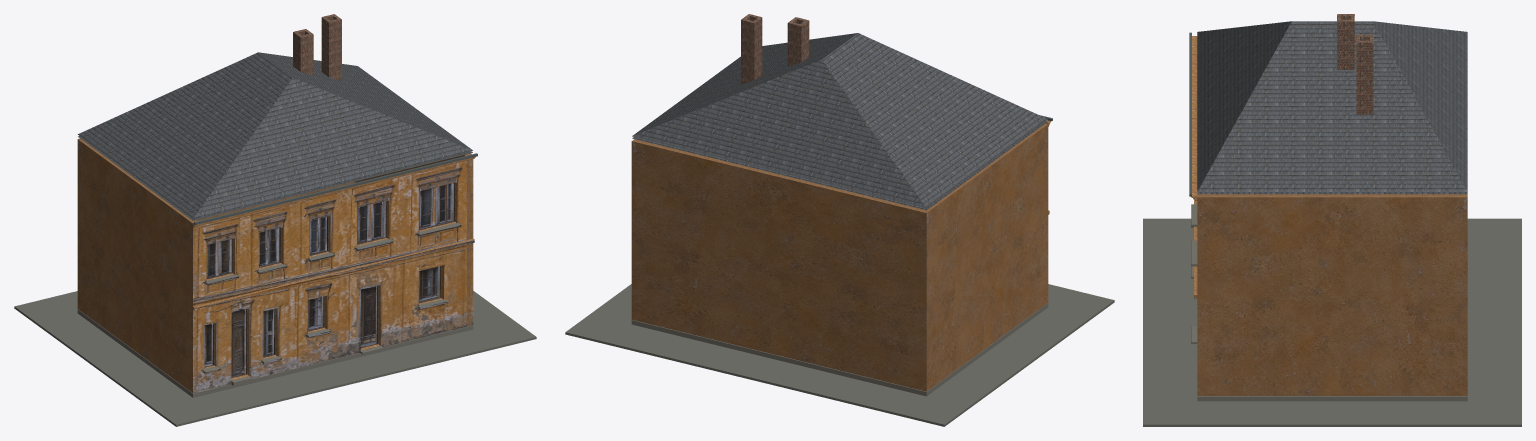
The model's file is cp259_SOL61_HD_v2.glb.
3 views of the same model, side by side, from view 1: azimuth 30°, elevation 25°; view 2: azimuth 150°, elevation 25°; view 3: azimuth 270°, elevation 25° (orthographic). The views are drawn at different scales.
Visible parts, largest first — view 1: Closed_Hipped_Roof_Provisional, Front_Registered_G_Openings, Plan_Informed_Unobserved_Shell, Neutral_Context_Base, Photographic_Recessed_Inserts, Two_Observed_Chimneys, Source_Intermediate_Cornice, Mineral_Sills_C, Timber_Outer_Frames_G, Eave_Gutter_3D_Provisional, Eave_Cornice_Own_Material; view 2: Plan_Informed_Unobserved_Shell, Closed_Hipped_Roof_Provisional, Neutral_Context_Base, Two_Observed_Chimneys; view 3: Plan_Informed_Unobserved_Shell, Closed_Hipped_Roof_Provisional, Neutral_Context_Base, Two_Observed_Chimneys, Eave_Cornice_Own_Material, Mineral_Sills_C, Eave_Gutter_3D_Provisional.
Boxes of the visible parts, left/top/right/bottom form: Closed_Hipped_Roof_Provisional: left=78, top=52, right=472, bottom=220; Front_Registered_G_Openings: left=193, top=159, right=473, bottom=393; Plan_Informed_Unobserved_Shell: left=77, top=138, right=473, bottom=397; Neutral_Context_Base: left=14, top=291, right=536, bottom=426; Photographic_Recessed_Inserts: left=204, top=183, right=453, bottom=376; Two_Observed_Chimneys: left=293, top=14, right=341, bottom=80; Source_Intermediate_Cornice: left=193, top=238, right=474, bottom=310; Mineral_Sills_C: left=203, top=223, right=461, bottom=373; Timber_Outer_Frames_G: left=204, top=183, right=454, bottom=377; Eave_Gutter_3D_Provisional: left=194, top=153, right=477, bottom=224; Eave_Cornice_Own_Material: left=193, top=156, right=475, bottom=227; Plan_Informed_Unobserved_Shell: left=631, top=123, right=1048, bottom=396; Closed_Hipped_Roof_Provisional: left=632, top=33, right=1047, bottom=210; Neutral_Context_Base: left=565, top=284, right=1114, bottom=426; Two_Observed_Chimneys: left=741, top=14, right=809, bottom=84; Plan_Informed_Unobserved_Shell: left=1197, top=194, right=1467, bottom=401; Closed_Hipped_Roof_Provisional: left=1197, top=21, right=1467, bottom=194; Neutral_Context_Base: left=1143, top=218, right=1521, bottom=426; Two_Observed_Chimneys: left=1337, top=14, right=1373, bottom=114; Eave_Cornice_Own_Material: left=1191, top=36, right=1197, bottom=200; Mineral_Sills_C: left=1191, top=204, right=1197, bottom=343; Eave_Gutter_3D_Provisional: left=1189, top=32, right=1191, bottom=196.
Bounding box in the file's own units: 18 × 13.28 × 14.
10 materials, 6 textured.
